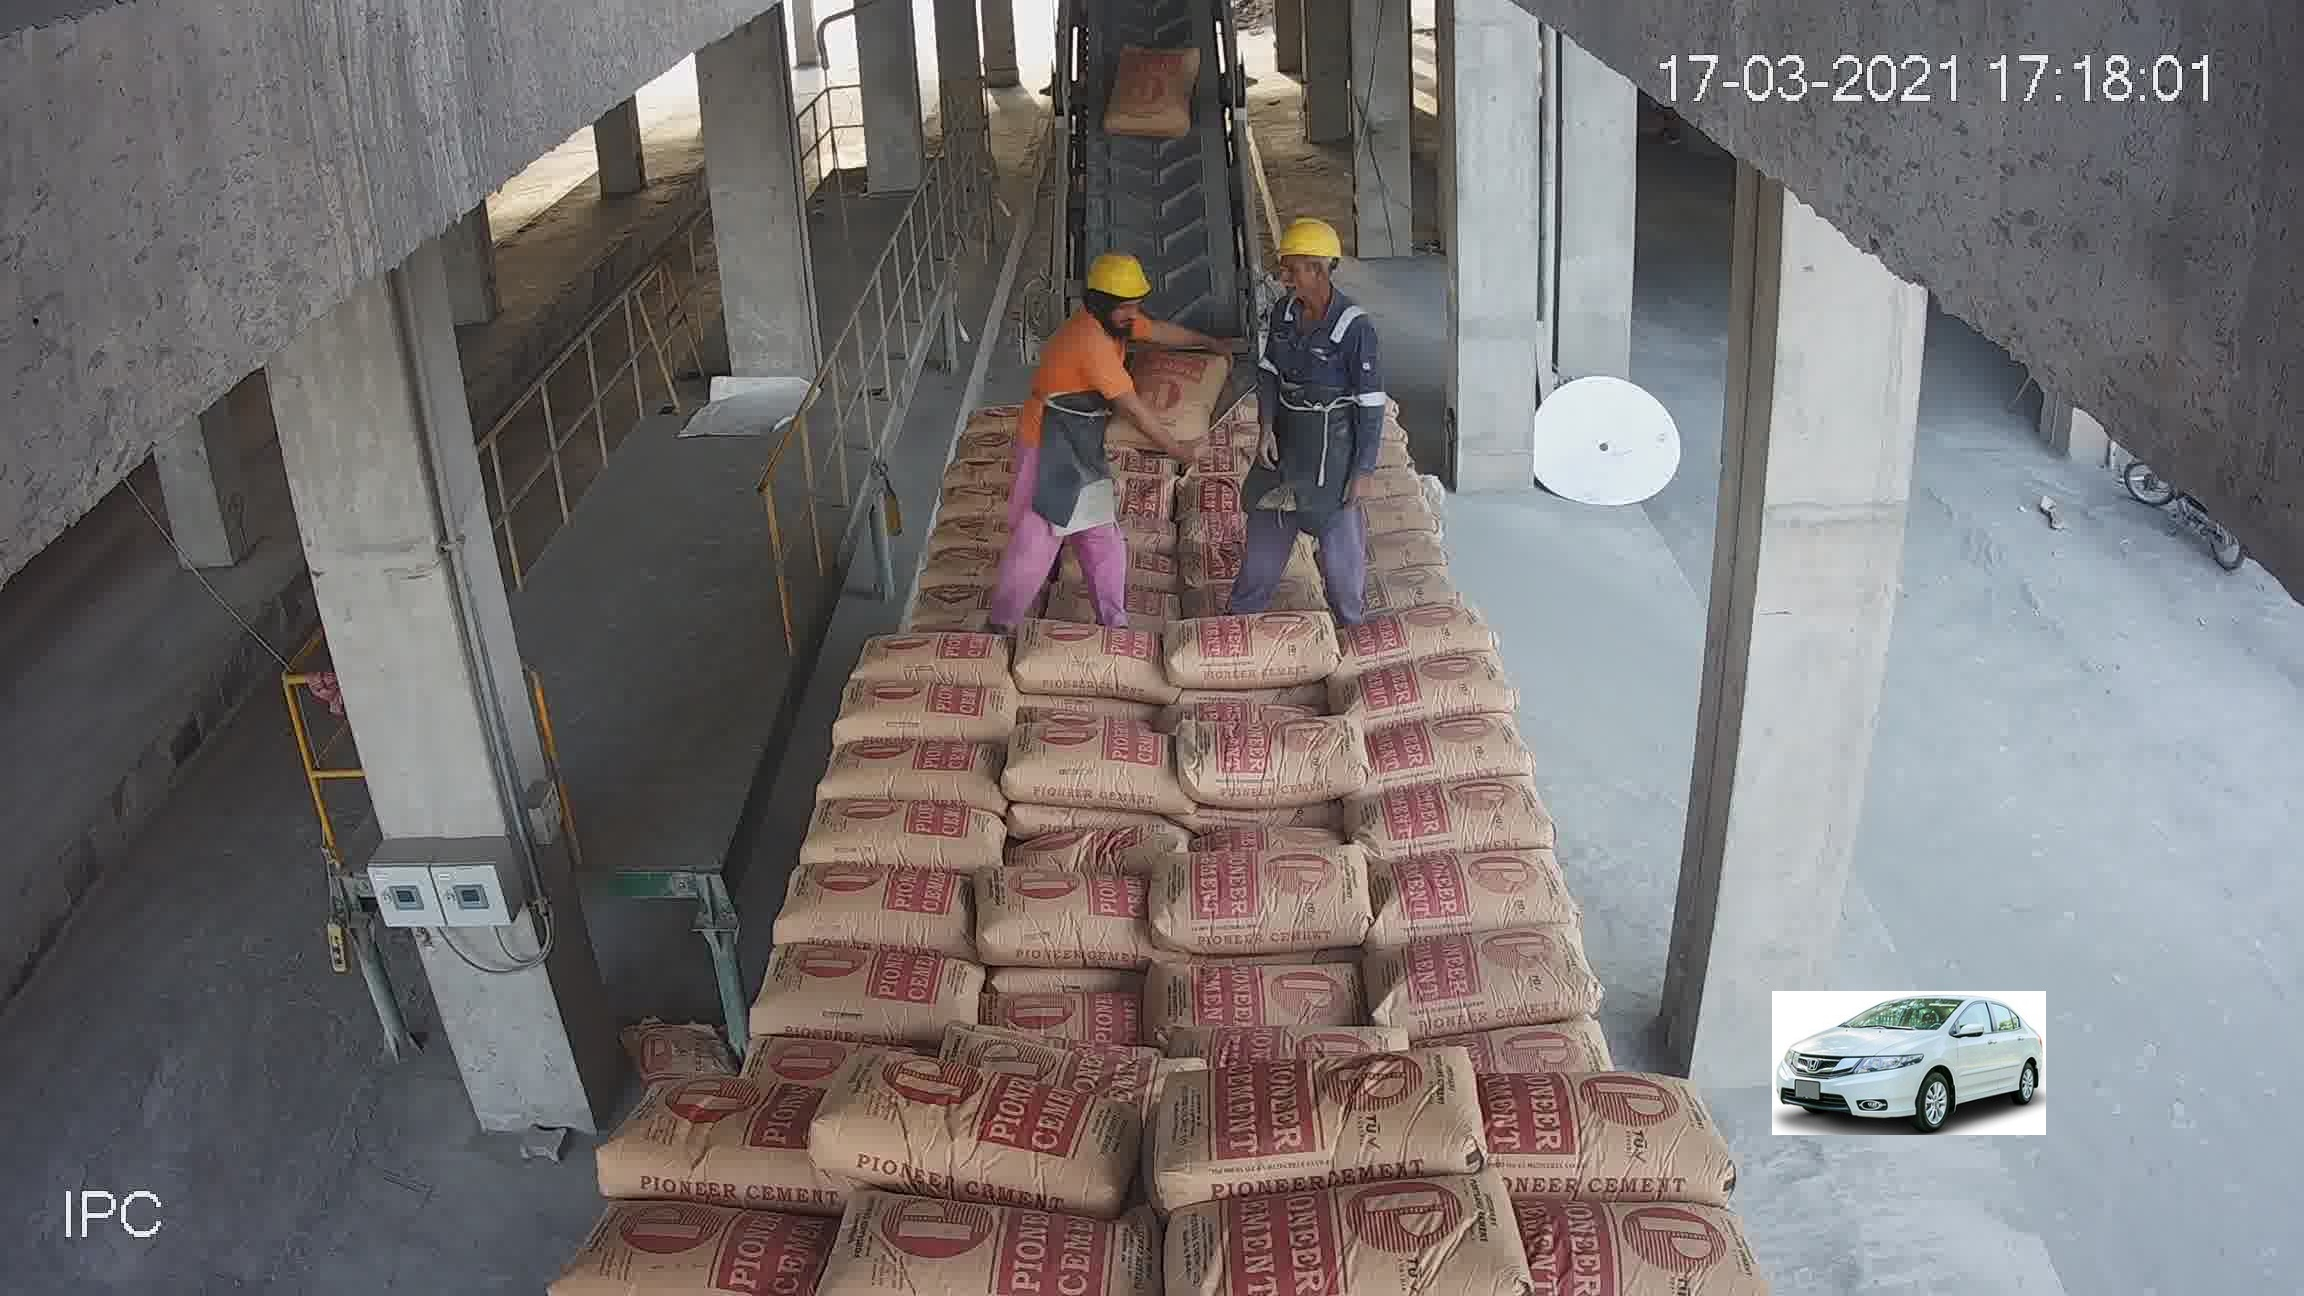bag: (1108, 343, 1215, 438), (1101, 51, 1203, 142)
bag_h: (812, 1051, 1139, 1203), (1154, 1044, 1484, 1190), (1165, 1174, 1522, 1293), (1480, 1067, 1737, 1204), (837, 1201, 1154, 1294), (597, 1082, 832, 1203), (1514, 1195, 1761, 1296), (755, 948, 991, 1044), (1380, 929, 1601, 1030), (1157, 845, 1367, 949), (570, 1206, 836, 1287), (934, 1017, 1174, 1105), (1358, 850, 1576, 945), (984, 859, 1152, 968), (1185, 715, 1366, 810), (1152, 949, 1367, 1029), (1366, 760, 1543, 851), (766, 870, 961, 949), (1008, 718, 1173, 810), (1005, 612, 1174, 701), (801, 798, 995, 873), (802, 741, 1005, 812), (1165, 608, 1339, 688), (1348, 642, 1510, 726), (824, 679, 1013, 747), (840, 623, 1014, 692), (1158, 1025, 1412, 1070), (1356, 725, 1522, 791), (1453, 1010, 1608, 1081), (1342, 604, 1491, 676), (983, 989, 1139, 1049), (1010, 817, 1174, 870), (1035, 581, 1176, 628), (1339, 559, 1449, 619), (892, 582, 987, 638), (896, 554, 995, 597), (940, 451, 1010, 498), (929, 519, 1002, 563), (926, 492, 1014, 525), (949, 427, 1013, 460), (954, 400, 1013, 430)
belt: (1065, 11, 1269, 430)
